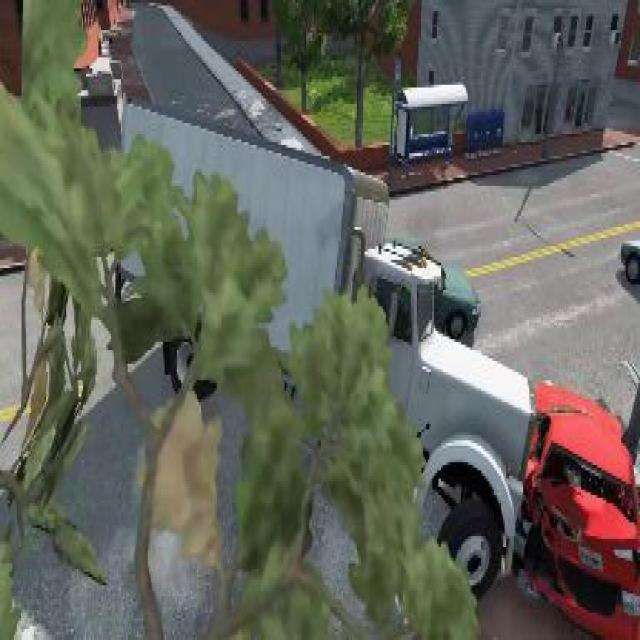accident: (101, 90, 637, 638)
